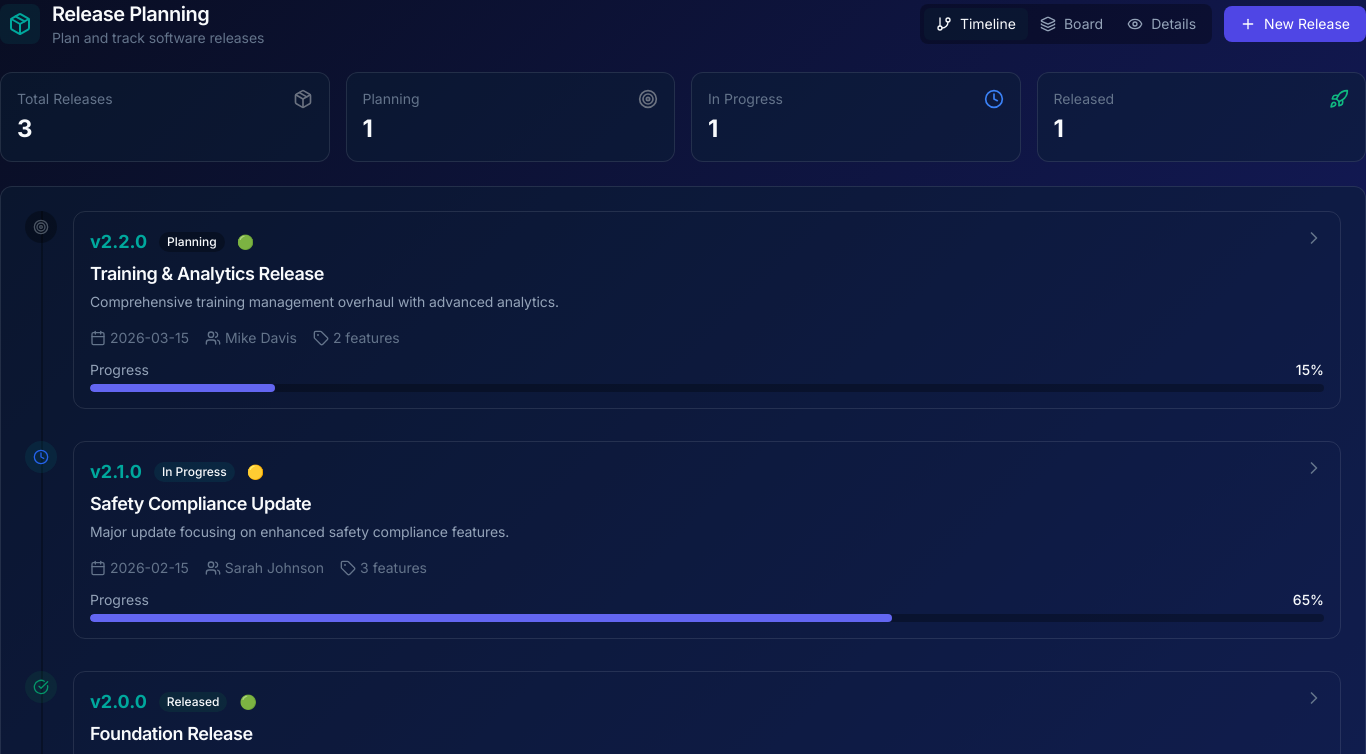
Test case: ReleasePlanningView › Board view › shows board column headers
Click the button "Board". click: (1072, 24)
box: [1028, 8, 1115, 40]
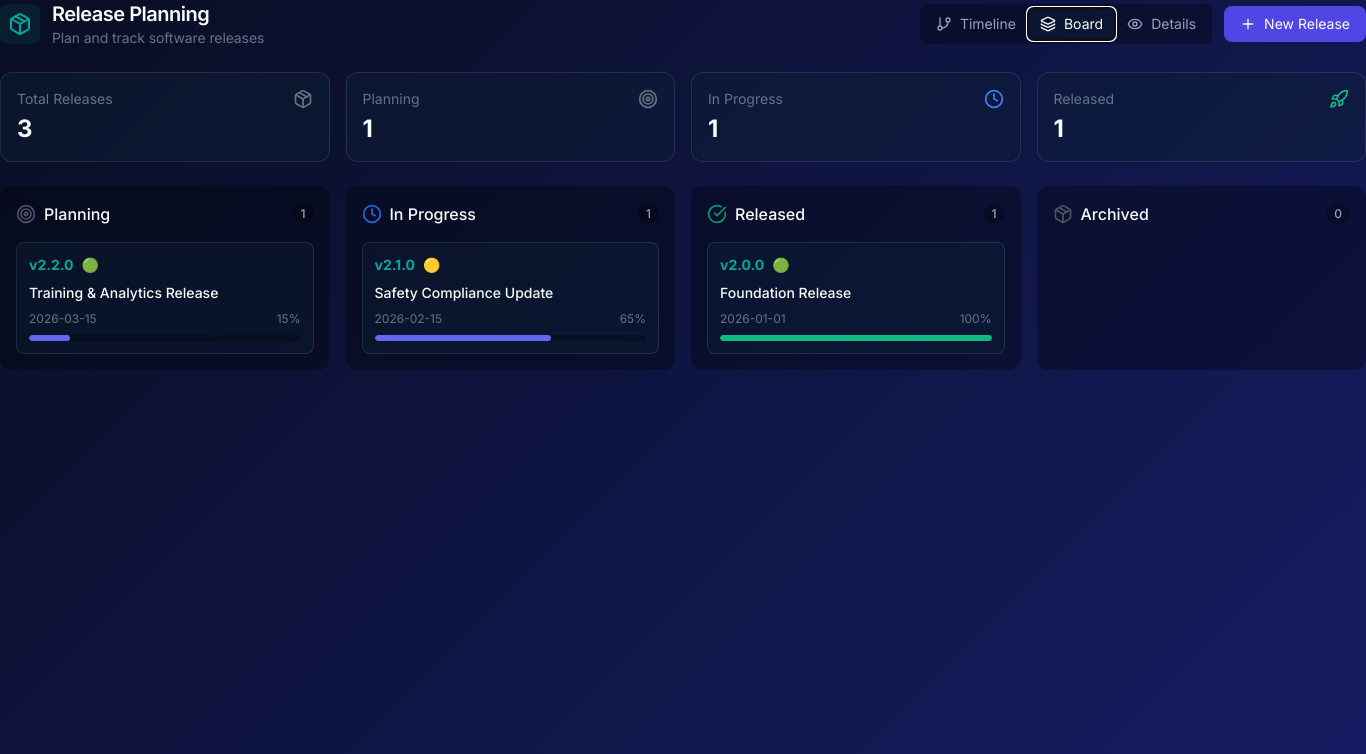
Expected: the text "Planning" in the row of "Total Releases" is shown, [362, 90, 420, 107]
Expected: the text "Archived" is shown, [1080, 202, 1149, 226]
